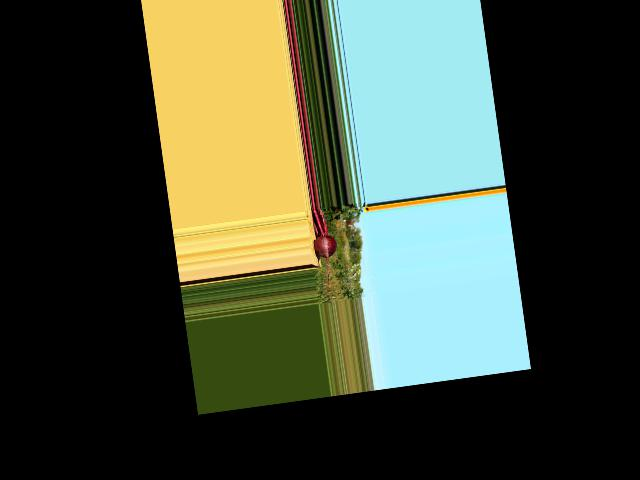beet: (308, 205, 343, 300)
